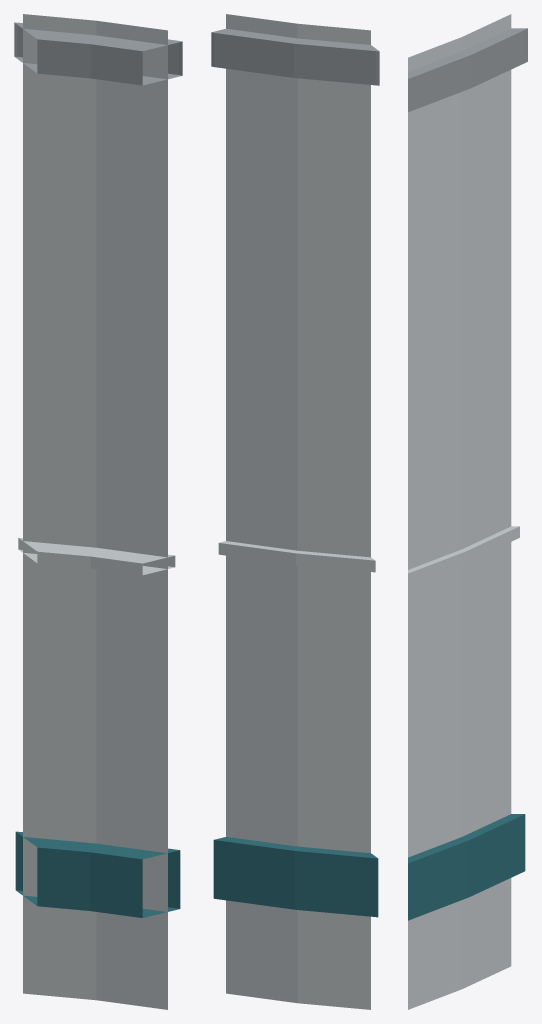
File: cell_47.obj
3 views of the same model, side by side, from view 1: azimuth 30°, elevation 25°; view 2: azimuth 210°, elevation 25°; view 3: azimuth 270°, elevation 25° (orthographic). The views are drawn at different scales.
Size of the model in its own units: 0.114 by 1 by 0.114.
